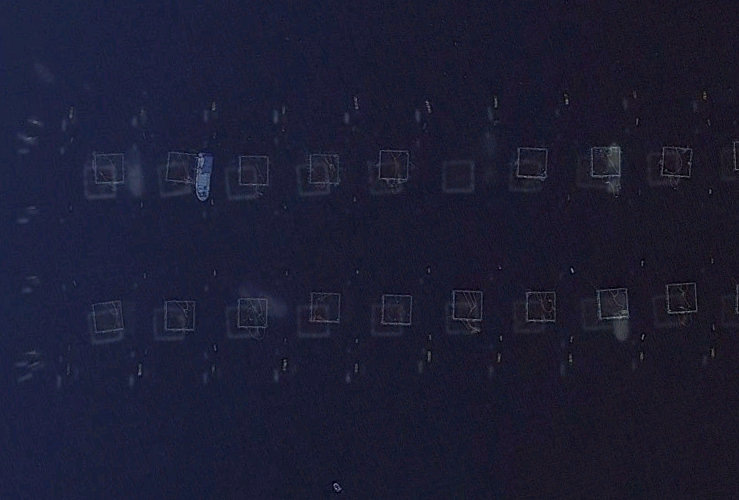ship: (194, 149, 214, 205)
square: (361, 285, 417, 351), (219, 146, 282, 203), (435, 284, 494, 344), (578, 280, 638, 339), (644, 137, 704, 193), (510, 280, 564, 341), (292, 287, 345, 349), (650, 277, 704, 336), (294, 144, 348, 203), (217, 290, 274, 345), (147, 290, 200, 349), (507, 137, 559, 196), (576, 138, 629, 193), (151, 143, 202, 200), (85, 147, 133, 205), (82, 291, 132, 346), (435, 153, 484, 202), (370, 141, 418, 188)
